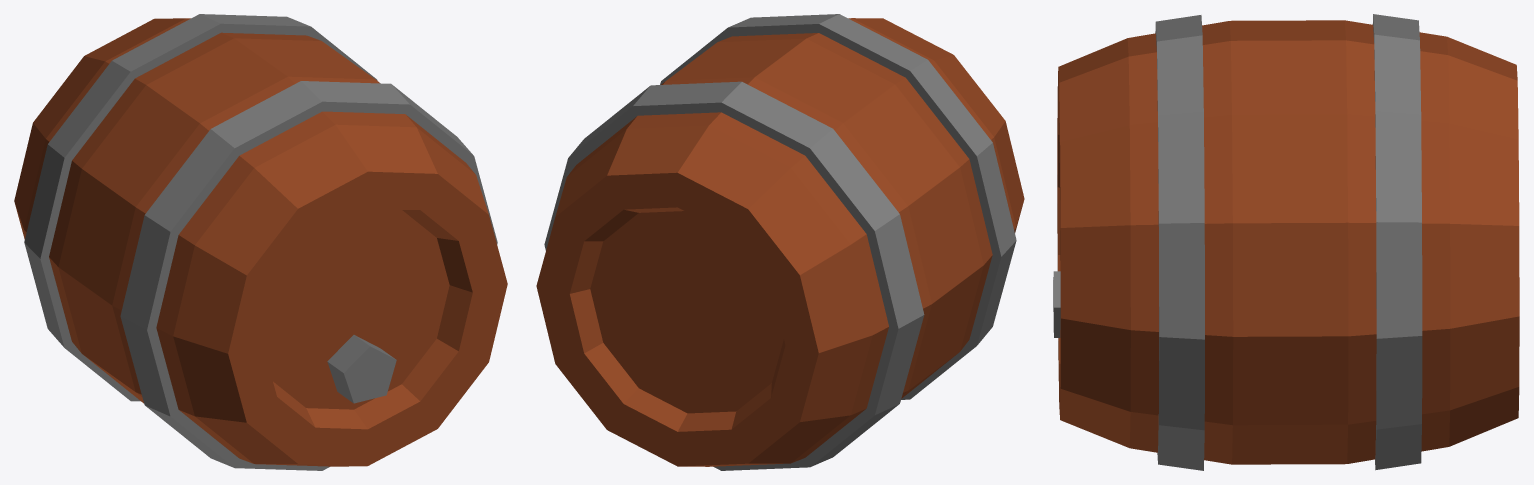
File: Barrel.fbx
The picture shows the model from 3 angles, left to right: view 1: azimuth 30°, elevation 25°; view 2: azimuth 150°, elevation 25°; view 3: azimuth 270°, elevation 25°; orthographic projection. The views are drawn at different scales.
Parts seen in each view (by area): view 1: Barrel (2); view 2: Barrel (2); view 3: Barrel (2).
Part boxes in pixels (x1,y1,x2,y2): Barrel (2): (14, 14, 507, 470); Barrel (2): (536, 14, 1024, 470); Barrel (2): (1053, 14, 1519, 470).
Size of the model in its own units: 123 by 122 by 124.
